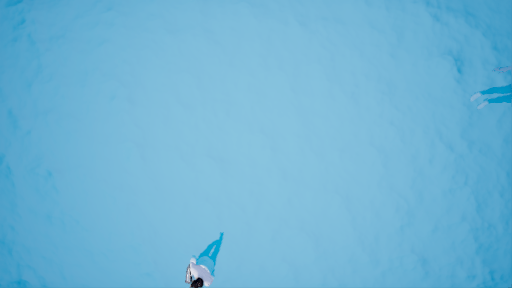person: (183, 220, 239, 288), (456, 58, 512, 108)
